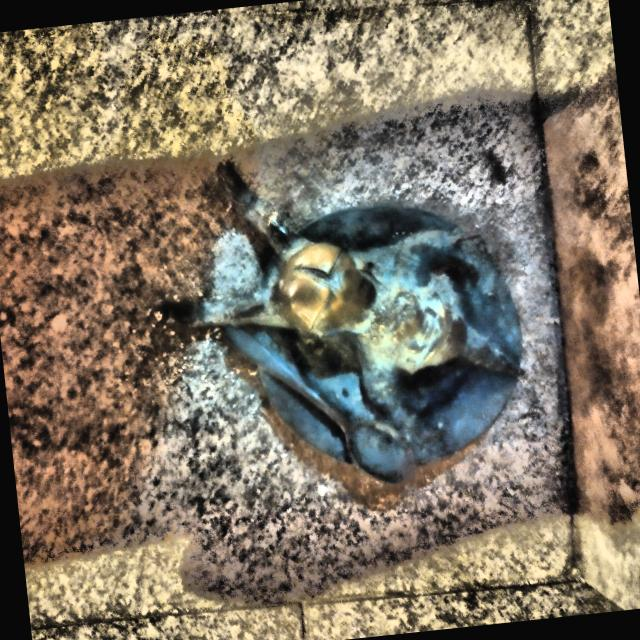Obiezysmak: (151, 160, 522, 485)
